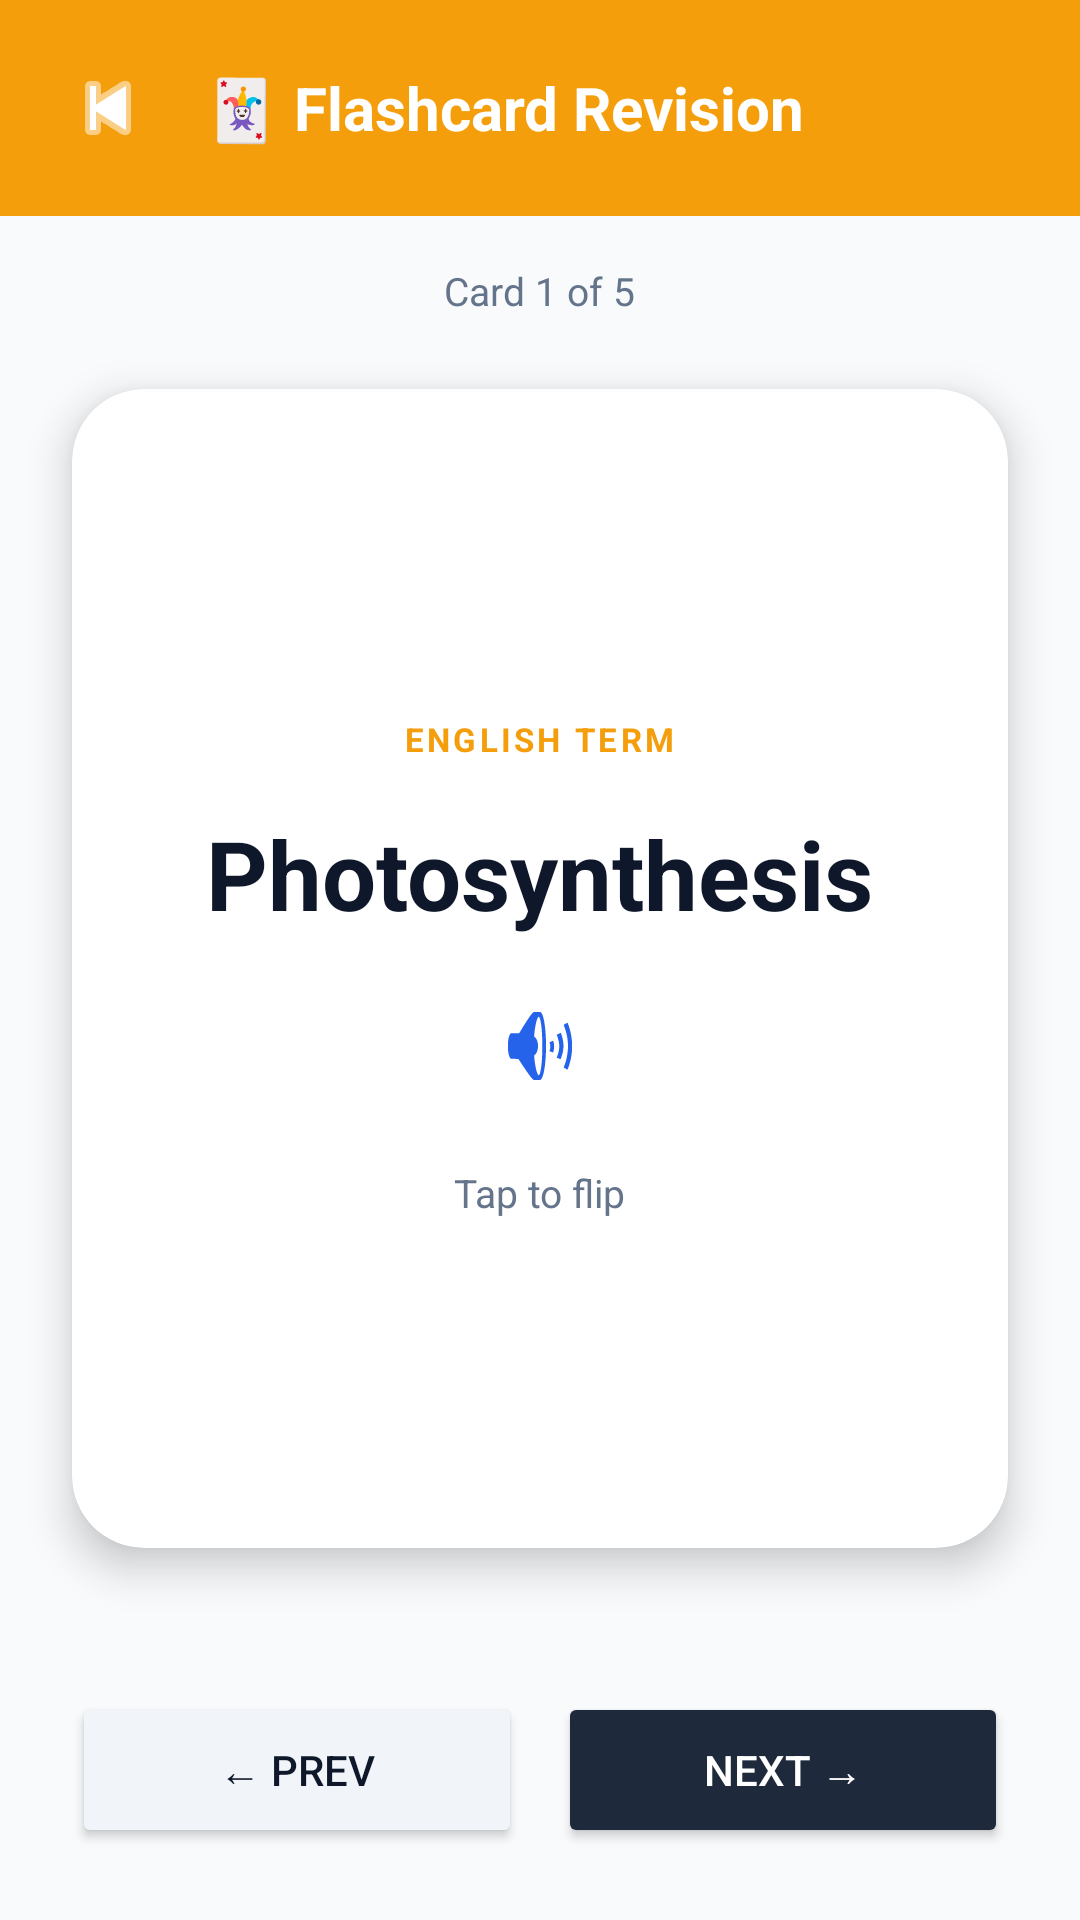

Icon bounding boxes for this 1080 x 1920 phone screenshot, format [left=x1, top=y1, right=x2, bottom=y2]:
Back: [left=85, top=81, right=131, bottom=135]
